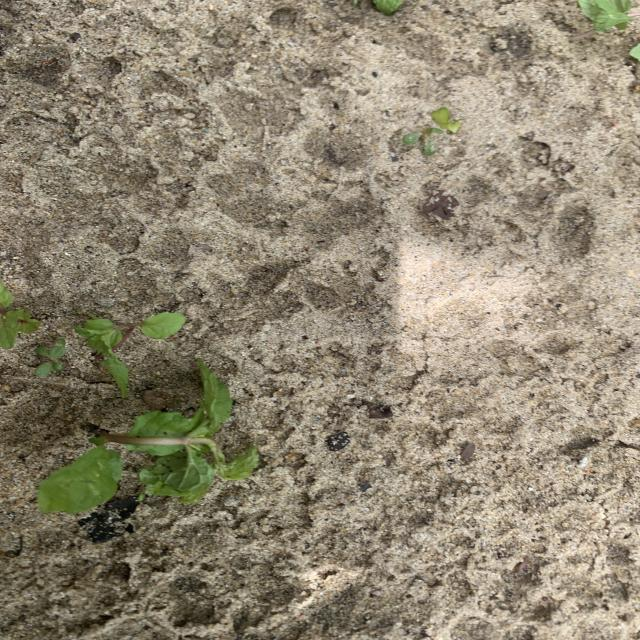crop: (37, 360, 258, 512), (75, 313, 184, 395), (1, 282, 39, 347), (578, 1, 638, 30), (374, 0, 402, 13), (630, 45, 639, 60)
weed: (402, 108, 459, 155), (35, 339, 66, 376)
